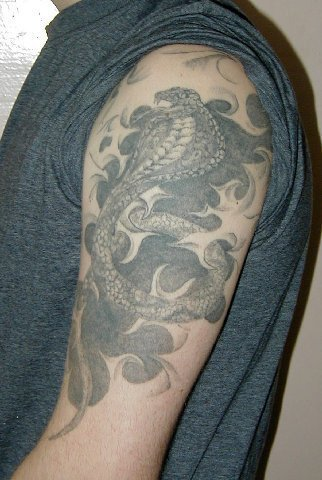tatu7_zmeya: (87, 68, 240, 337)
